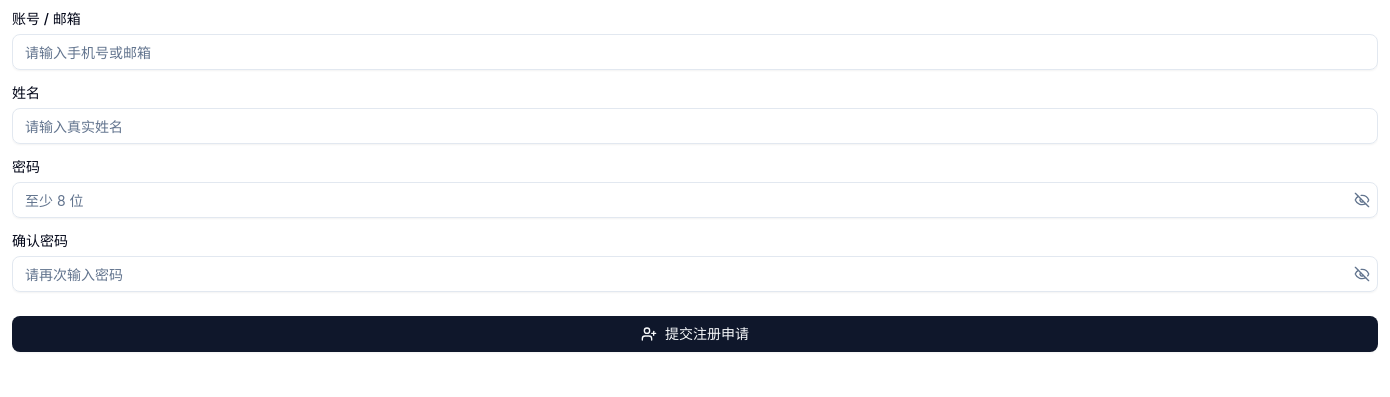
Scenario: SignUpForm › rejects a password shorter than 8 characters
The width and height of the screenshot is (1390, 397).
Type "13800000000" into the field labelled "账号 / 邮箱" at (695, 52), box top-left (12, 34), bottom-right (1378, 70)
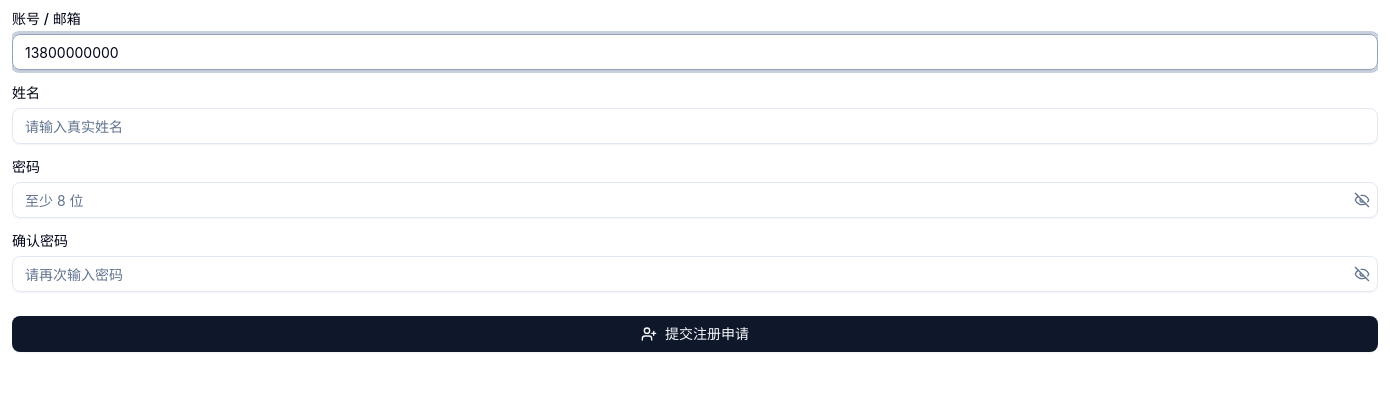
Type "李四" into the field labelled "姓名" at (695, 126), box top-left (12, 108), bottom-right (1378, 144)
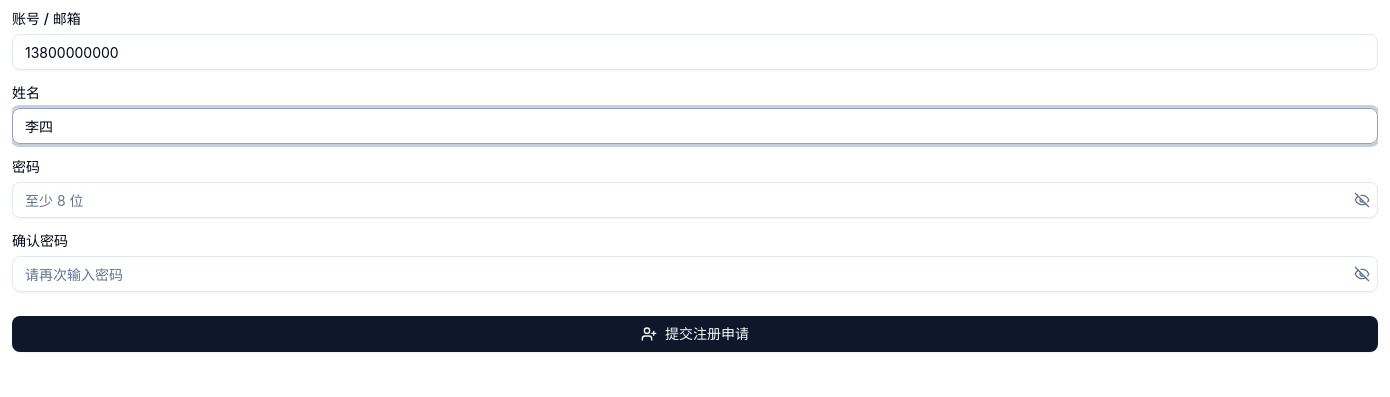
Type "1234567" into the password field labelled "密码" at (695, 200), box top-left (12, 182), bottom-right (1378, 218)
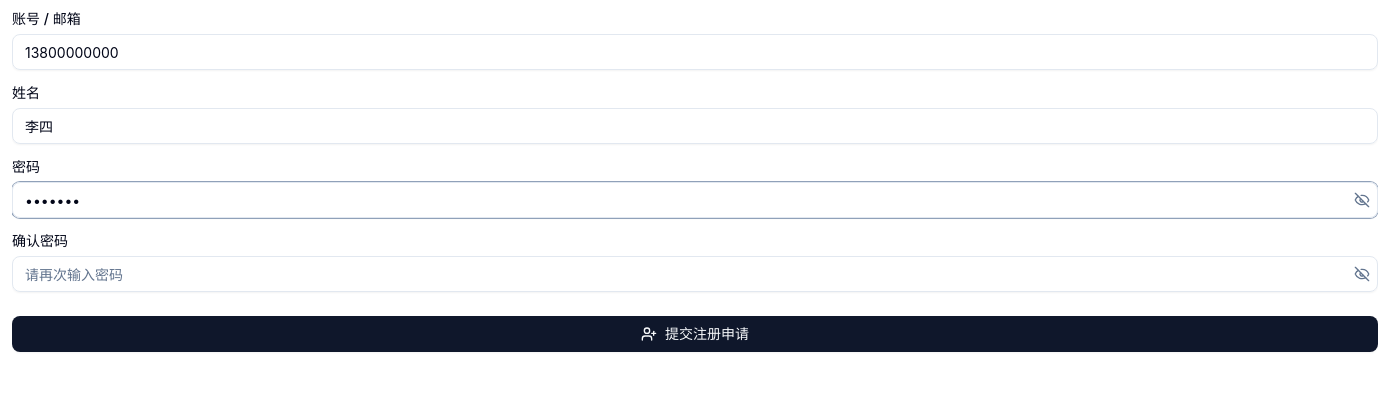
Type "1234567" into the password field labelled "确认密码" at (695, 274), box top-left (12, 256), bottom-right (1378, 292)
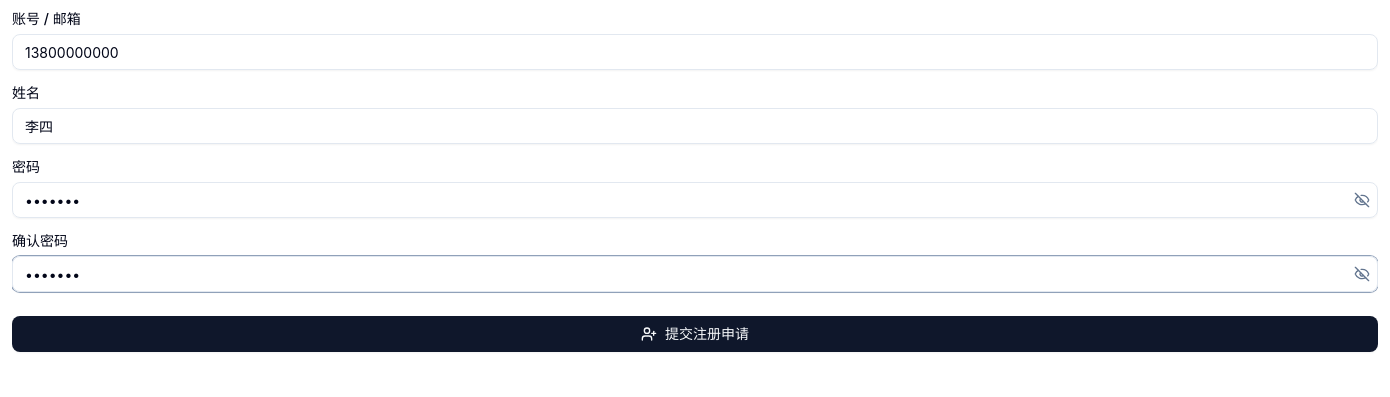
Click the button "提交注册申请" at (695, 334), box top-left (12, 316), bottom-right (1378, 352)
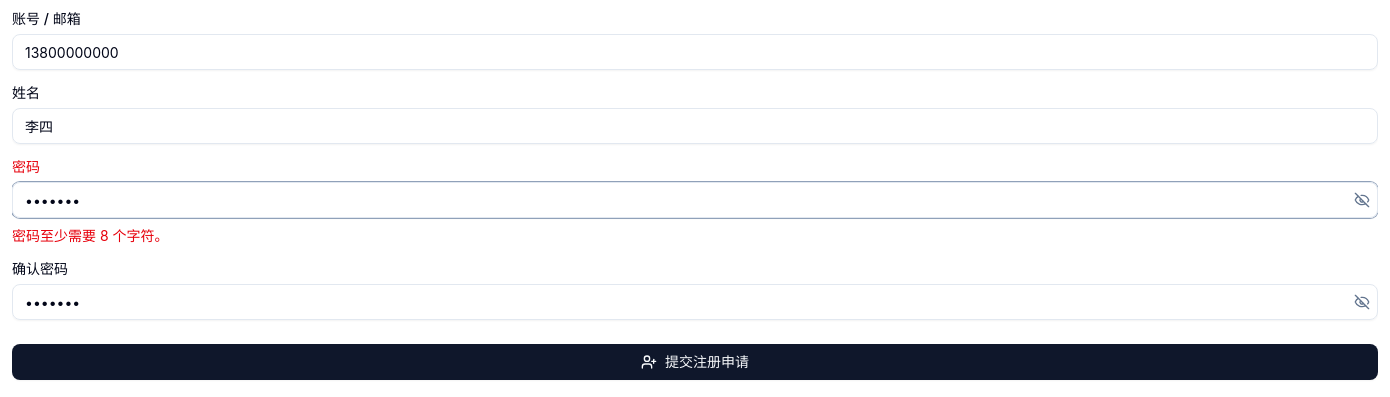
Check: the text "密码至少需要 8 个字符。" is shown, box top-left (12, 227), bottom-right (168, 244)
